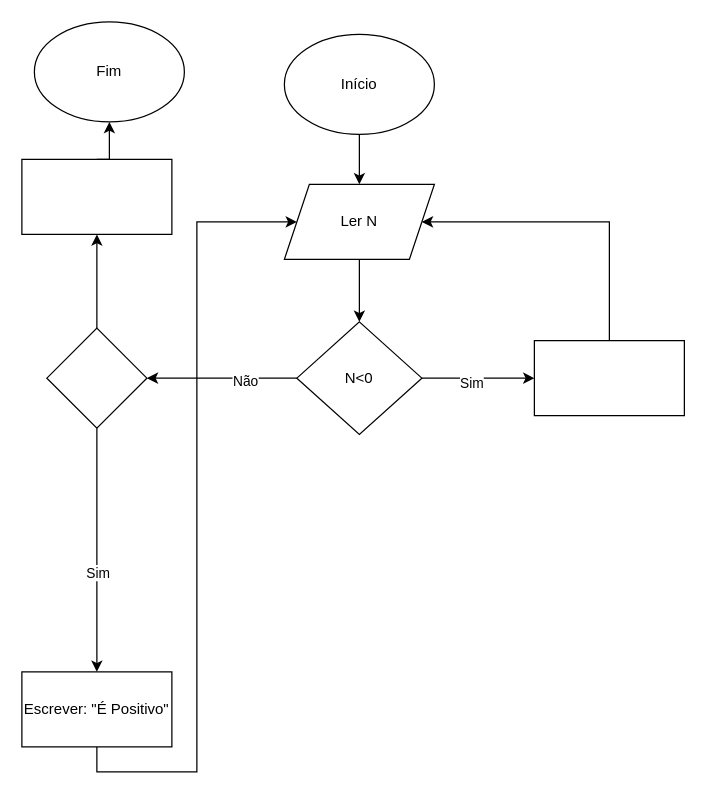
This 706x804 diagram has some shape labels left out. The shapes that lost their labels are listed below. From the top down, each one's box as (x1, y1, x2, y2) in pixels, then its label:
(21, 158, 172, 234): Escrever: "Digitou 0 - vai sair do programador"
(46, 327, 147, 428): N>0
(533, 339, 684, 416): Escrever: "É negativo"
